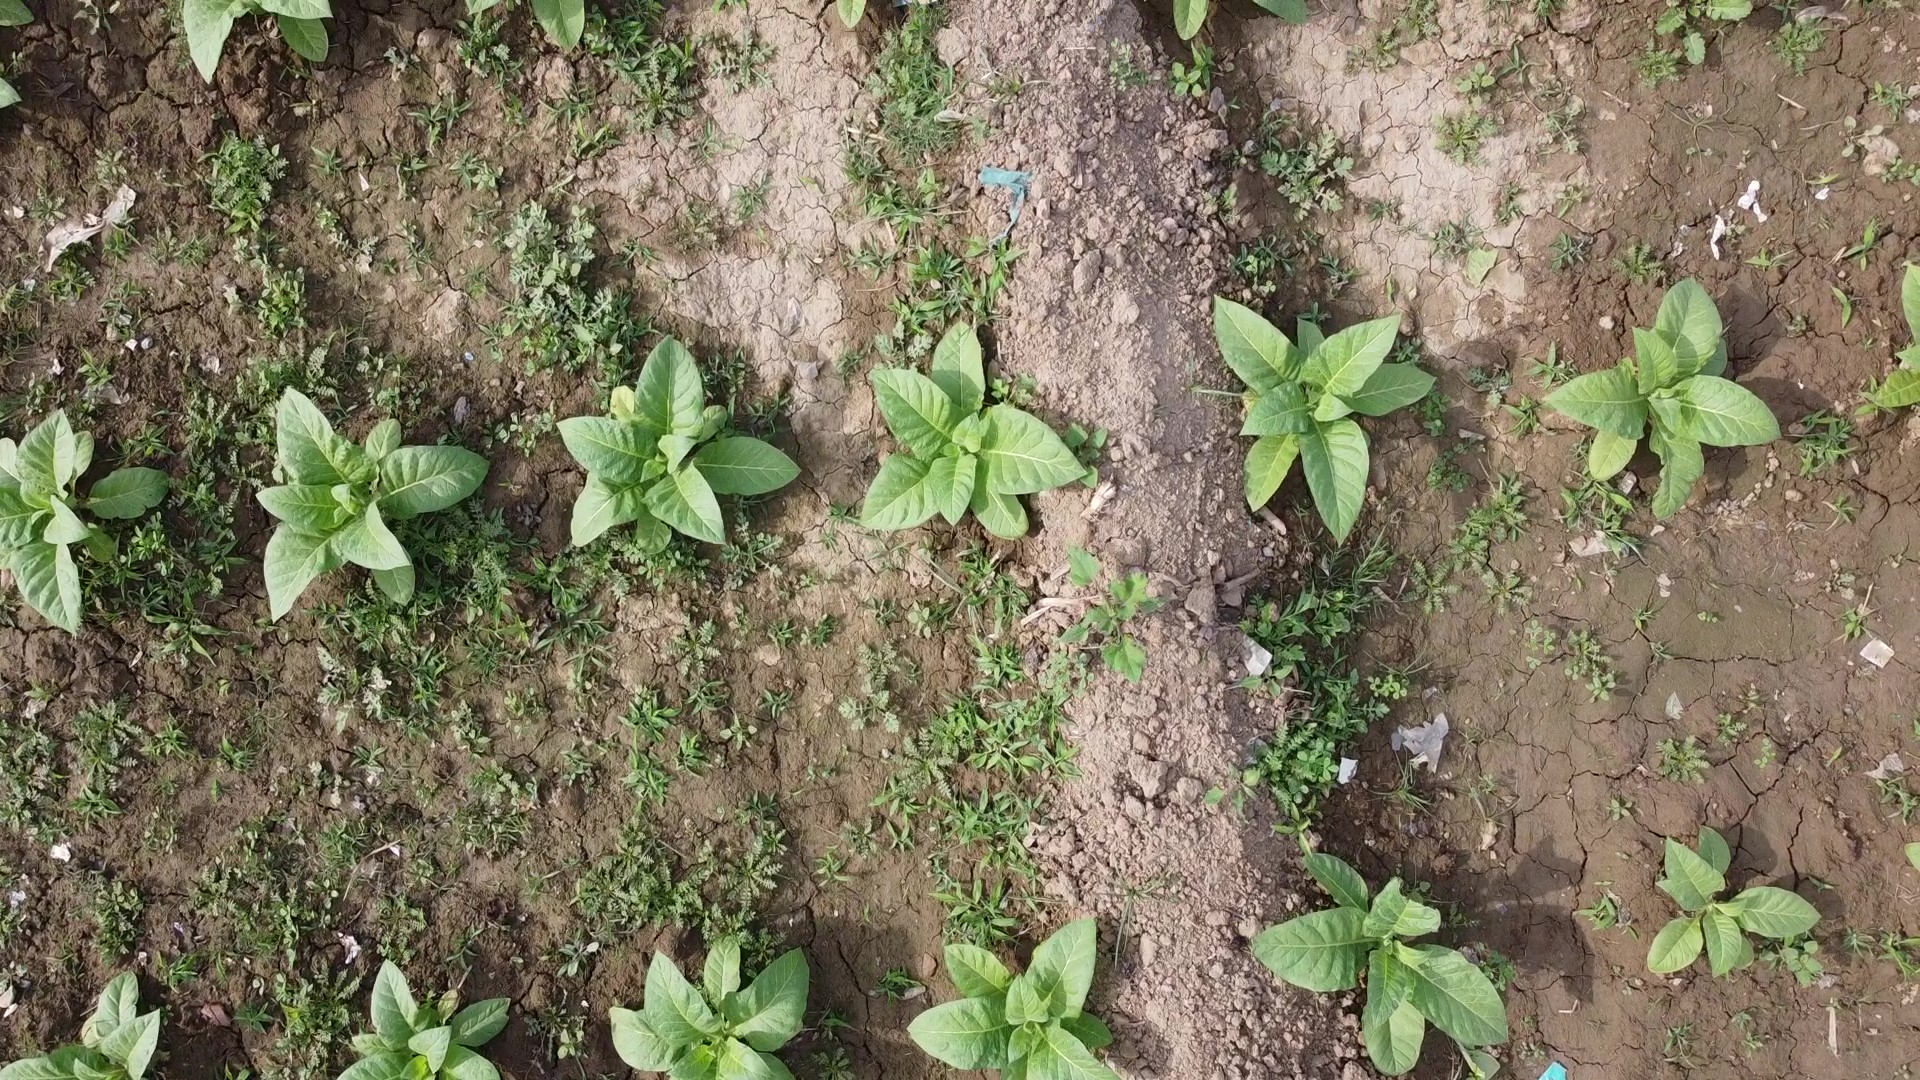weed: (1545, 273, 1783, 517), (1213, 291, 1435, 548), (1251, 853, 1509, 1074), (258, 386, 491, 624), (558, 334, 801, 547), (859, 321, 1087, 538), (0, 409, 169, 634), (910, 915, 1113, 1080), (610, 934, 811, 1080), (1647, 825, 1819, 976), (334, 958, 509, 1080), (0, 972, 160, 1080), (182, 0, 334, 82), (1870, 262, 1920, 409), (462, 0, 586, 49), (1171, 0, 1210, 39), (1674, 0, 1752, 19), (835, 0, 864, 30)
